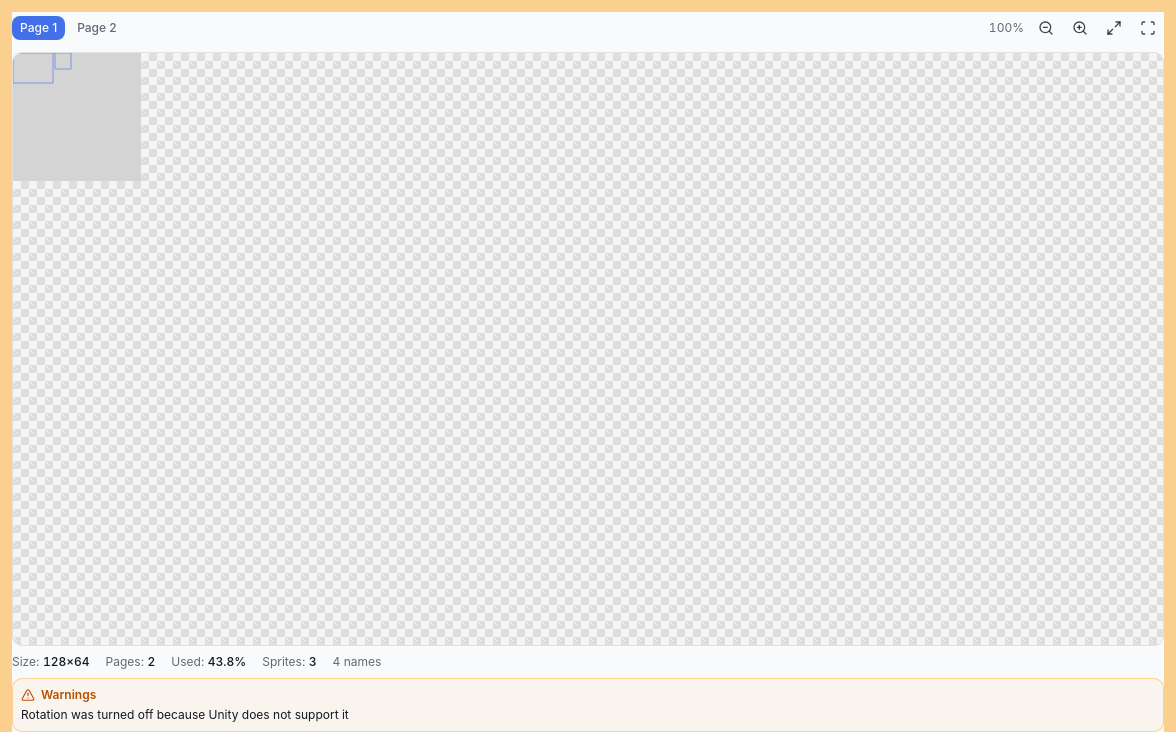
Test: AtlasView › zoom buttons change the zoom level
Expected: the text "100%" is shown, left=989, top=20, right=1024, bottom=36
Click the button named "Zoom in". click: (1080,28)
box: left=1064, top=12, right=1096, bottom=44
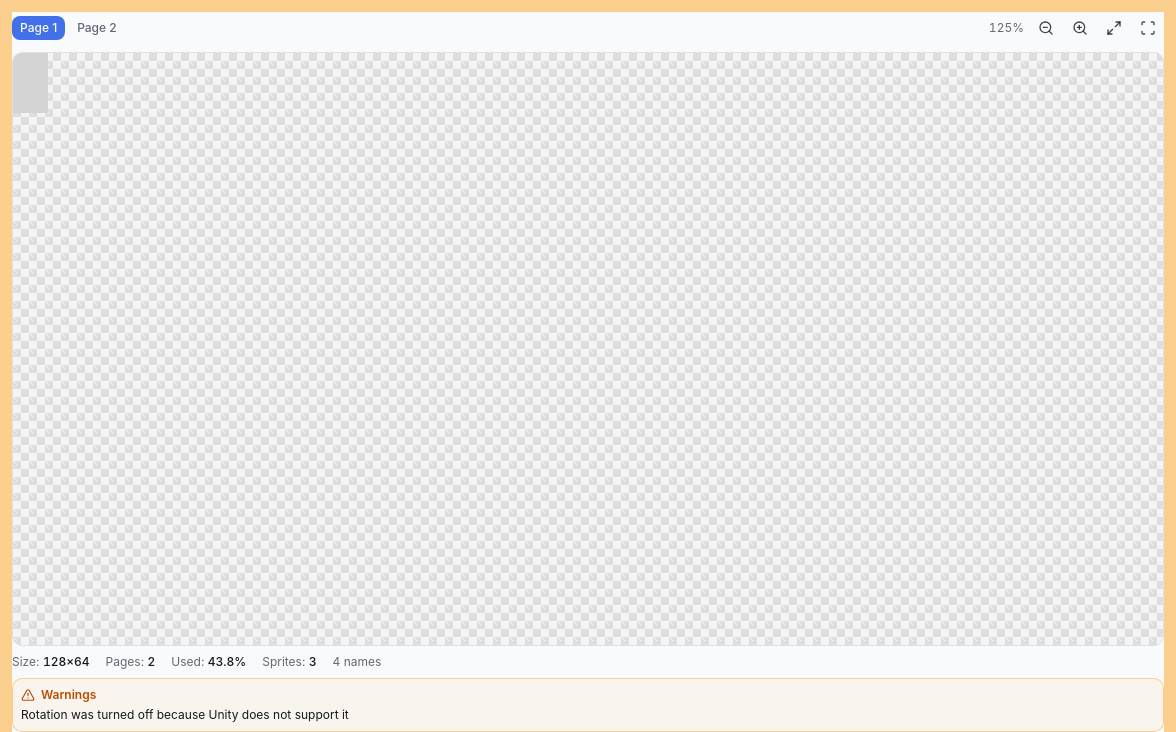
Now the text "125%" is shown, box left=989, top=20, right=1024, bottom=36
